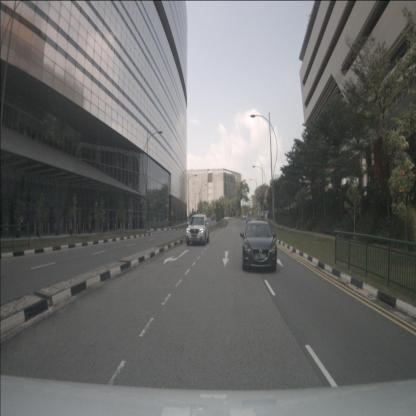human-pedestrian-adult: (20, 214, 24, 235)
vehicle-car: (242, 221, 277, 272), (186, 214, 209, 246), (246, 216, 251, 224)
